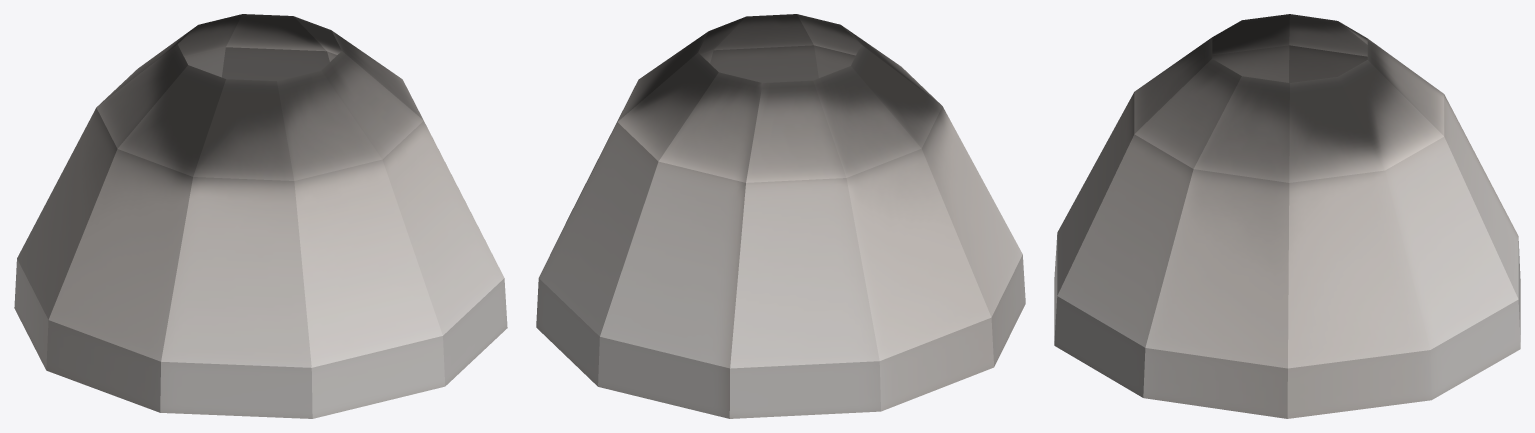
File: Nozzle.fbx
3 renders of one model, left to right at view 1: azimuth 30°, elevation 25°; view 2: azimuth 150°, elevation 25°; view 3: azimuth 270°, elevation 25°, orthographic.
Parts seen in each view (by area): view 1: Nozzle; view 2: Nozzle; view 3: Nozzle.
Part boxes in pixels (x1,y1,x2,y2): Nozzle: [14, 14, 507, 418]; Nozzle: [536, 14, 1025, 418]; Nozzle: [1054, 14, 1520, 418].
Size of the model in its own units: 6.23 by 3.77 by 5.93.
